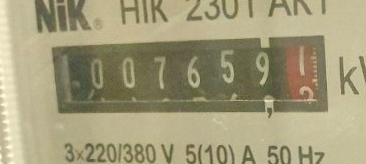0: (118, 52, 138, 92), (87, 54, 107, 93)
1: (291, 42, 310, 79)
5: (216, 46, 238, 87)
6: (182, 51, 204, 92)
7: (149, 52, 171, 91)
9: (252, 48, 273, 88)
screen: (42, 30, 334, 124)
